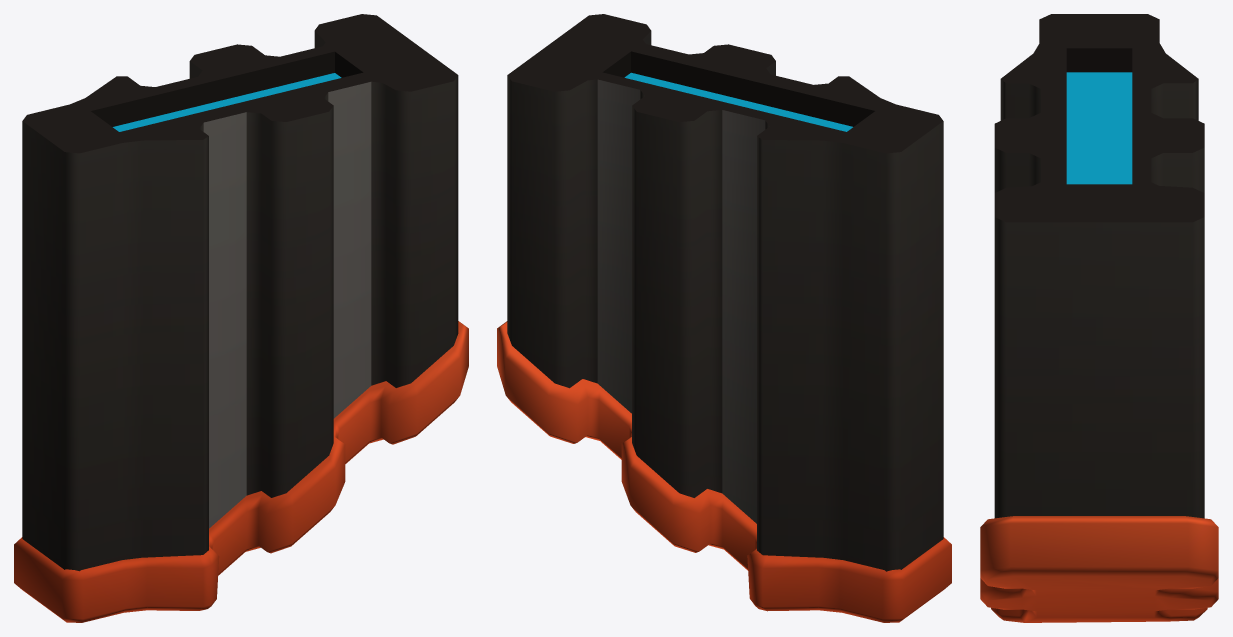
Rendered from AR7_Magazine.fbx.
3 renders of one model, left to right at view 1: azimuth 30°, elevation 25°; view 2: azimuth 150°, elevation 25°; view 3: azimuth 270°, elevation 25°, orthographic. The views are drawn at different scales.
Parts seen in each view (by area): view 1: AR7_Magazine; view 2: AR7_Magazine; view 3: AR7_Magazine.
Boxes of the visible parts, left/top/right/bottom form: AR7_Magazine: left=14, top=14, right=468, bottom=622; AR7_Magazine: left=497, top=14, right=951, bottom=622; AR7_Magazine: left=980, top=14, right=1218, bottom=622.
Size of the model in its own units: 9.14 by 10.47 by 4.22.
